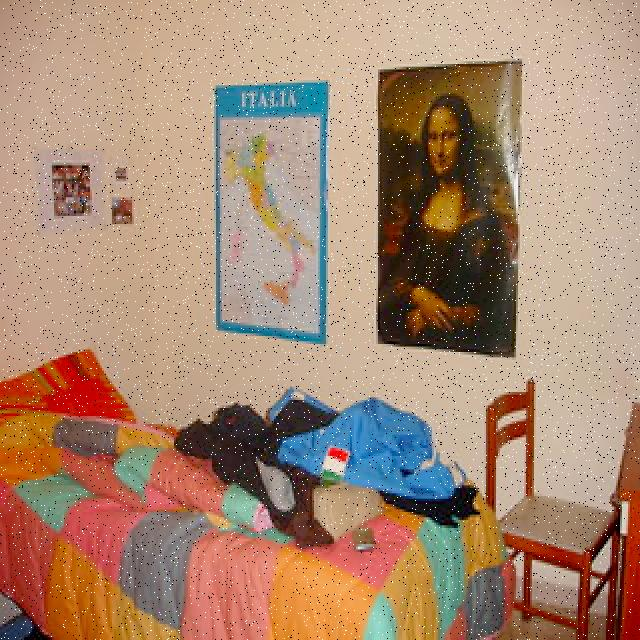bed: (10, 314, 513, 640)
